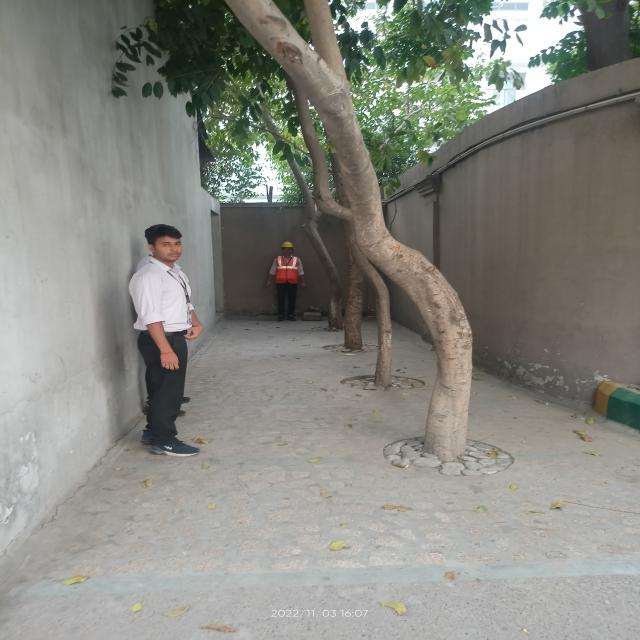safe: (266, 240, 308, 322)
unsafe: (127, 223, 203, 456)
